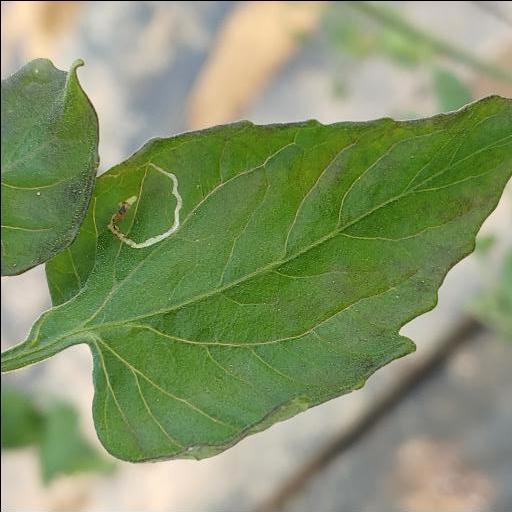disease_tomato: (42, 95, 509, 465)
